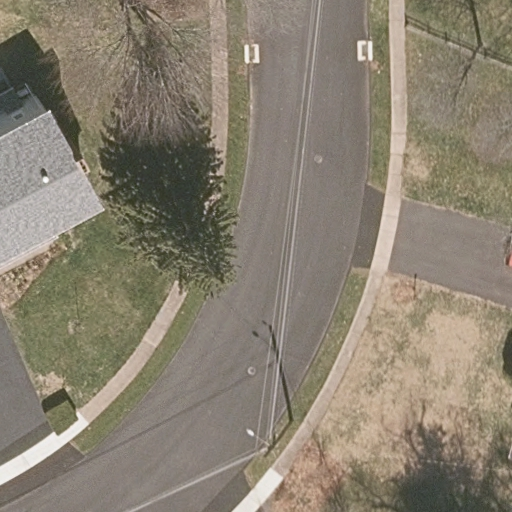DT: (245, 427, 279, 457)
